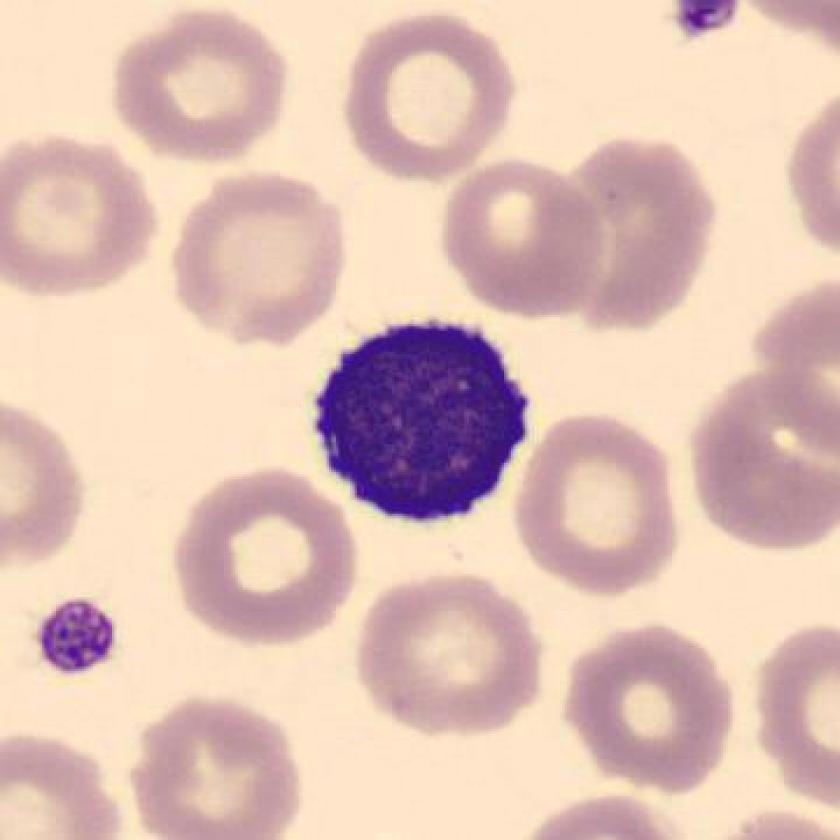lymphocyte: (300, 302, 547, 542), (650, 480, 652, 482)
platelets: (33, 592, 121, 679), (670, 1, 747, 47)
